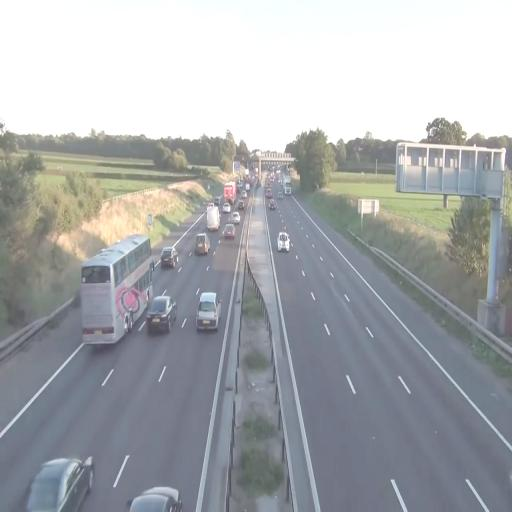vehicle: (80, 233, 154, 347), (26, 456, 94, 511), (128, 484, 182, 512), (146, 294, 177, 335), (196, 291, 220, 333), (160, 248, 176, 270), (195, 233, 210, 256), (278, 229, 290, 252), (221, 225, 236, 242)
